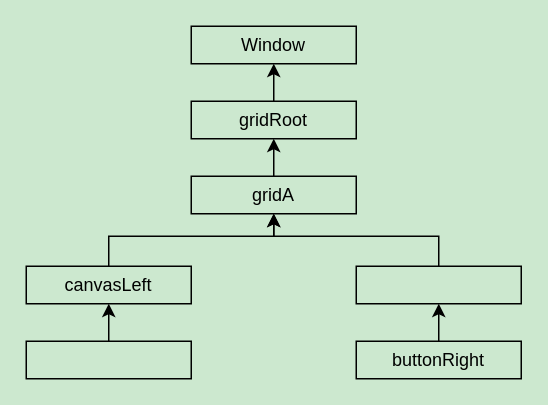
Image size: 548x405. Some labels were removed from this diagram. Here are the shapes that lost their labels. From the top down, the centre of each, then its label:
At [438,284]: "canvasRight".
At [108,359]: "buttonLeft".
